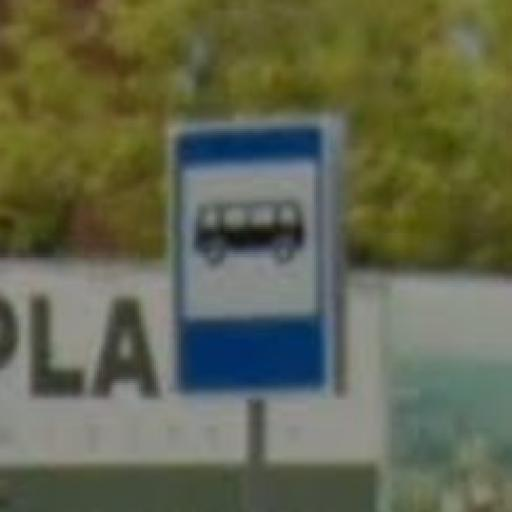traffic_sign: (163, 116, 340, 401)
